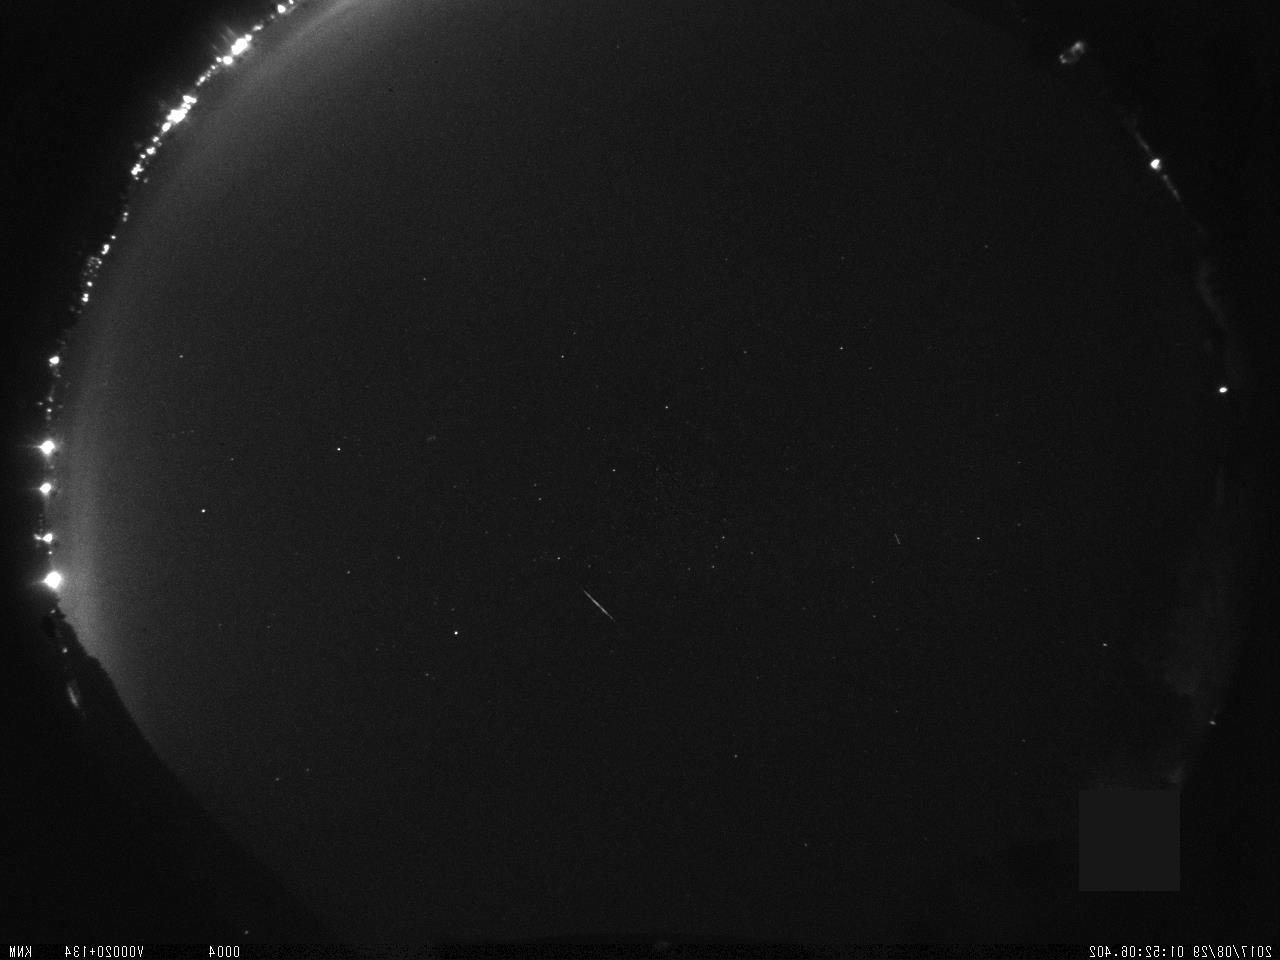meteor: (568, 575, 626, 635)
